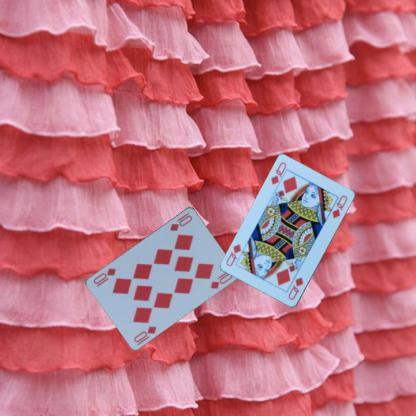10d: (167, 210, 194, 232), (131, 324, 158, 344)
Qd: (269, 160, 289, 190), (286, 275, 304, 301)
